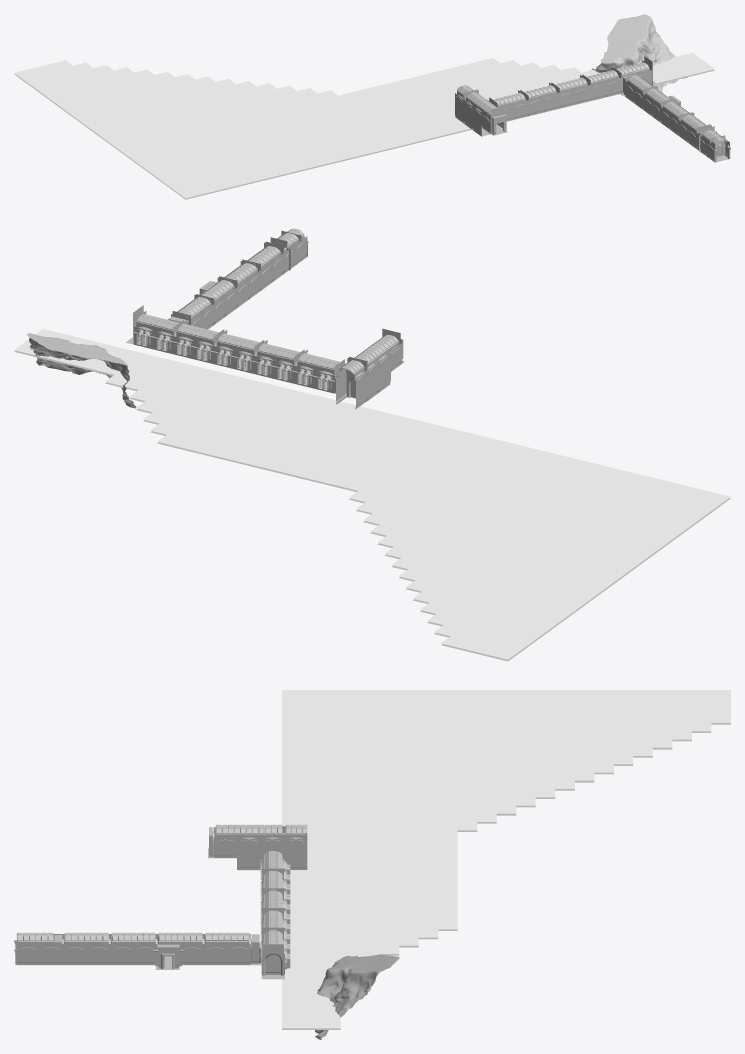
Rendered from Cloister.fbx.
3 views of the same model, one above another, from view 1: azimuth 30°, elevation 25°; view 2: azimuth 150°, elevation 25°; view 3: azimuth 270°, elevation 25° (orthographic). The views are drawn at different scales.
Parts seen in each view (by area): view 1: LODGroup_1_MainMesh_1_SubMesh_10, LODGroup_1_MainMesh_1_SubMesh_5, LODGroup_1_MainMesh_1_SubMesh_6, LODGroup_1_MainMesh_1_SubMesh_4, LODGroup_1_MainMesh_1_SubMesh_14, LODGroup_1_MainMesh_1_SubMesh_7, LODGroup_1_MainMesh_1_SubMesh_15, LODGroup_1_MainMesh_1_SubMesh_8, LODGroup_1_MainMesh_1_SubMesh_1; view 2: LODGroup_1_MainMesh_1_SubMesh_10, LODGroup_1_MainMesh_1_SubMesh_5, LODGroup_1_MainMesh_1_SubMesh_4, LODGroup_1_MainMesh_1_SubMesh_2, LODGroup_1_MainMesh_1_SubMesh_6, LODGroup_1_MainMesh_1_SubMesh_14, LODGroup_1_MainMesh_1_SubMesh_15, LODGroup_1_MainMesh_1_SubMesh_3, LODGroup_1_MainMesh_1_SubMesh_7; view 3: LODGroup_1_MainMesh_1_SubMesh_10, LODGroup_1_MainMesh_1_SubMesh_5, LODGroup_1_MainMesh_1_SubMesh_4, LODGroup_1_MainMesh_1_SubMesh_6, LODGroup_1_MainMesh_1_SubMesh_15, LODGroup_1_MainMesh_1_SubMesh_7, LODGroup_1_MainMesh_1_SubMesh_14, LODGroup_1_MainMesh_1_SubMesh_1, LODGroup_1_MainMesh_1_SubMesh_8.
Boxes of the visible parts, box(x1,y1,x2,y2) form: LODGroup_1_MainMesh_1_SubMesh_10: box(14, 53, 714, 198); LODGroup_1_MainMesh_1_SubMesh_5: box(455, 56, 729, 161); LODGroup_1_MainMesh_1_SubMesh_6: box(591, 14, 687, 95); LODGroup_1_MainMesh_1_SubMesh_4: box(457, 62, 727, 144); LODGroup_1_MainMesh_1_SubMesh_14: box(14, 69, 714, 199); LODGroup_1_MainMesh_1_SubMesh_7: box(457, 75, 726, 143); LODGroup_1_MainMesh_1_SubMesh_15: box(455, 68, 728, 150); LODGroup_1_MainMesh_1_SubMesh_8: box(465, 81, 728, 162); LODGroup_1_MainMesh_1_SubMesh_1: box(487, 62, 730, 153); LODGroup_1_MainMesh_1_SubMesh_10: box(14, 329, 730, 659); LODGroup_1_MainMesh_1_SubMesh_5: box(133, 230, 403, 409); LODGroup_1_MainMesh_1_SubMesh_4: box(137, 228, 398, 373); LODGroup_1_MainMesh_1_SubMesh_2: box(133, 259, 335, 393); LODGroup_1_MainMesh_1_SubMesh_6: box(27, 333, 136, 408); LODGroup_1_MainMesh_1_SubMesh_14: box(14, 350, 730, 661); LODGroup_1_MainMesh_1_SubMesh_15: box(135, 234, 401, 381); LODGroup_1_MainMesh_1_SubMesh_3: box(136, 245, 401, 401); LODGroup_1_MainMesh_1_SubMesh_7: box(178, 229, 398, 372); LODGroup_1_MainMesh_1_SubMesh_10: box(282, 690, 730, 1028); LODGroup_1_MainMesh_1_SubMesh_5: box(16, 827, 307, 974); LODGroup_1_MainMesh_1_SubMesh_4: box(16, 824, 307, 944); LODGroup_1_MainMesh_1_SubMesh_6: box(315, 954, 399, 1039); LODGroup_1_MainMesh_1_SubMesh_15: box(18, 826, 305, 959); LODGroup_1_MainMesh_1_SubMesh_7: box(17, 828, 306, 940); LODGroup_1_MainMesh_1_SubMesh_14: box(282, 723, 730, 1029); LODGroup_1_MainMesh_1_SubMesh_1: box(14, 831, 285, 975); LODGroup_1_MainMesh_1_SubMesh_8: box(15, 848, 284, 979).
Size of the model in its own units: 20500 by 2177 by 18367.
